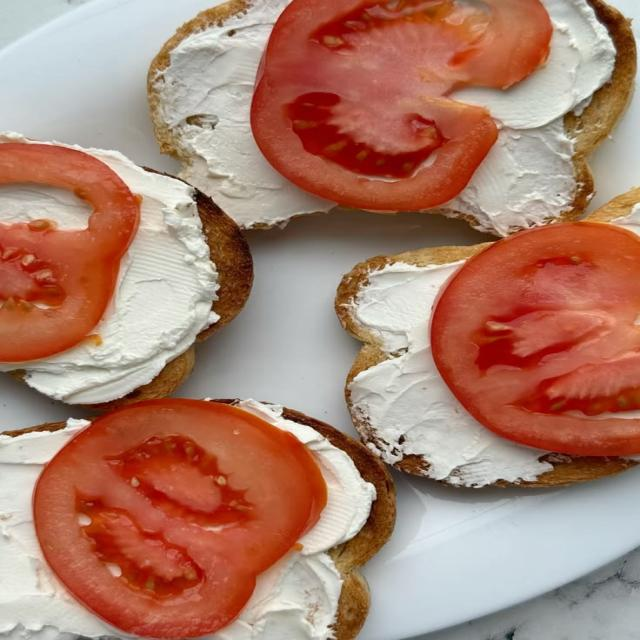sliced bread: (81, 190, 253, 412), (335, 243, 493, 478), (283, 408, 394, 639), (148, 0, 257, 160), (564, 0, 636, 156), (496, 451, 639, 487), (497, 454, 639, 487), (588, 189, 639, 222), (4, 422, 64, 438), (202, 196, 221, 230), (400, 455, 417, 470)
sliced tomatoe: (34, 400, 326, 638), (252, 0, 552, 210), (431, 222, 639, 456), (0, 143, 139, 362)
